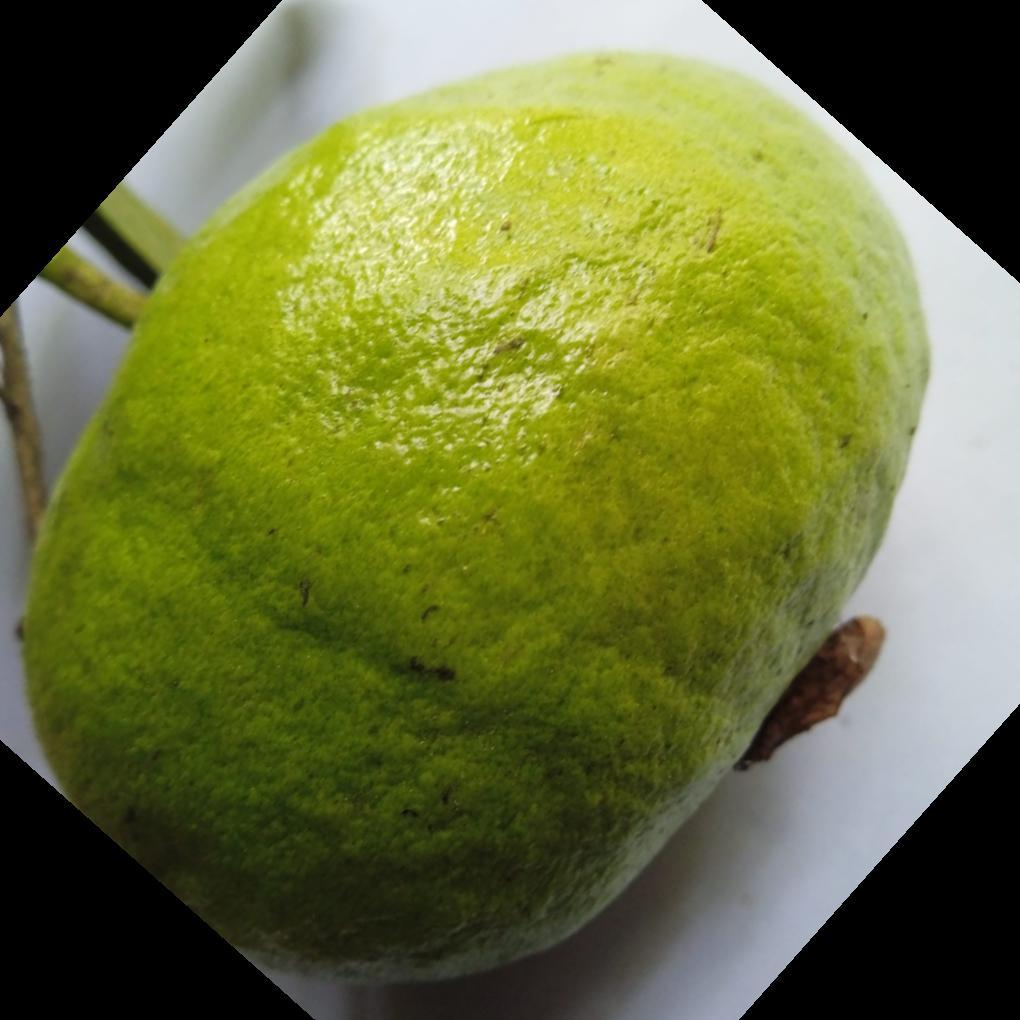FreshGuava: (15, 48, 934, 991)
